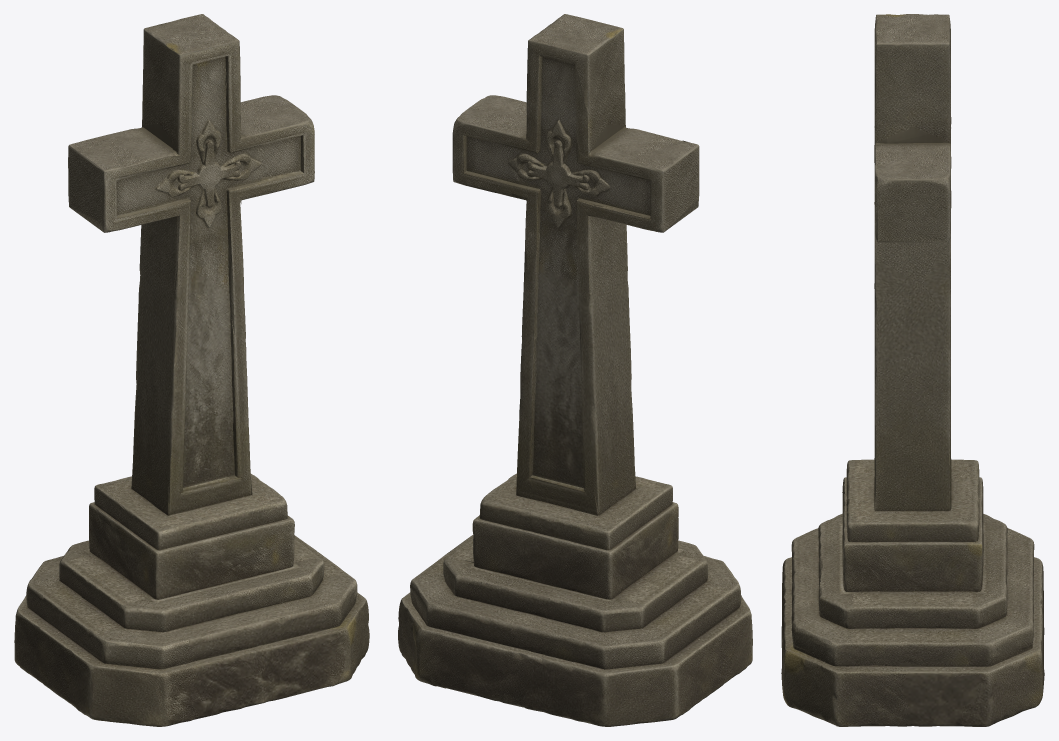
Rendered from wayside_cross.glb.
The picture shows the model from 3 angles, left to right: view 1: azimuth 30°, elevation 25°; view 2: azimuth 150°, elevation 25°; view 3: azimuth 270°, elevation 25°; orthographic projection.
Bounding box in the file's own units: 0.8916 × 1.9 × 0.7192.
Materials: 1 (1 with a texture image).
